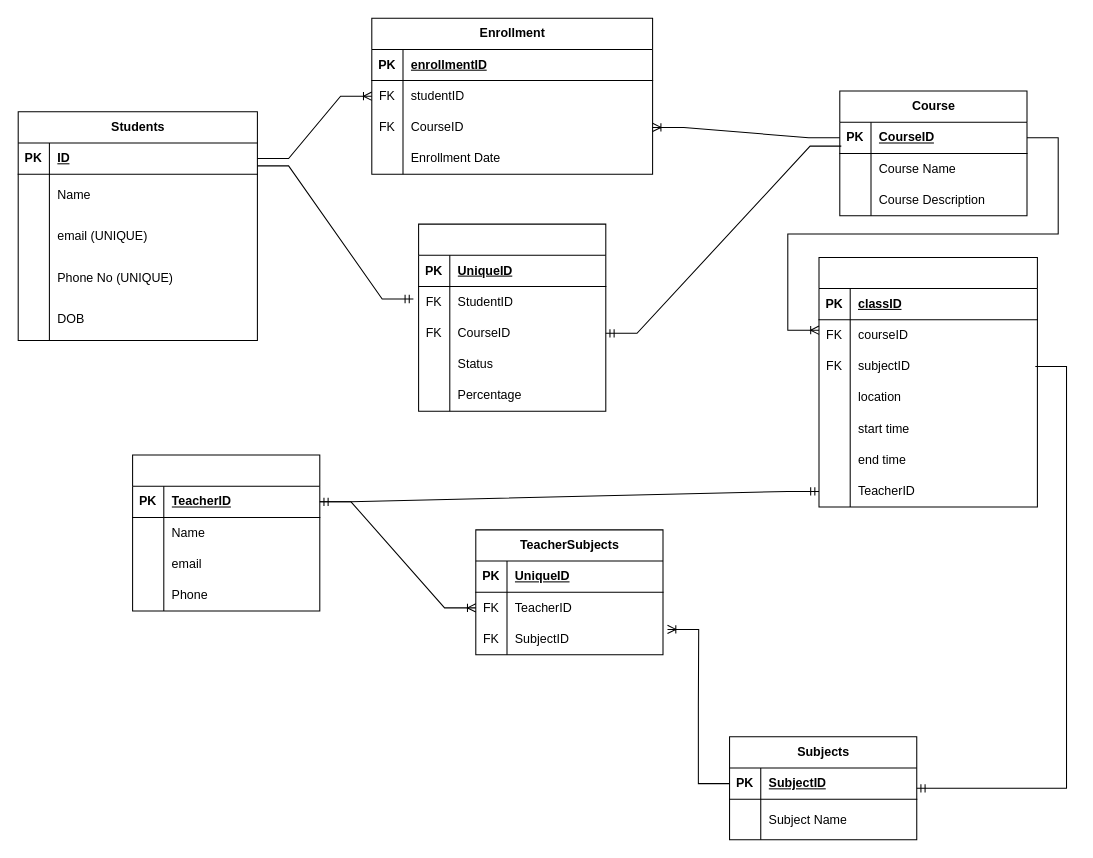
Some shapes in this 1093 by 858 pixel diagram are drawn without their labels. The box of each missing label's shape, as (x1, y1, x2, y2) in pixels:
Classes: (818, 256, 1037, 507)
Grades: (418, 223, 606, 411)
Teachers: (132, 454, 320, 611)
